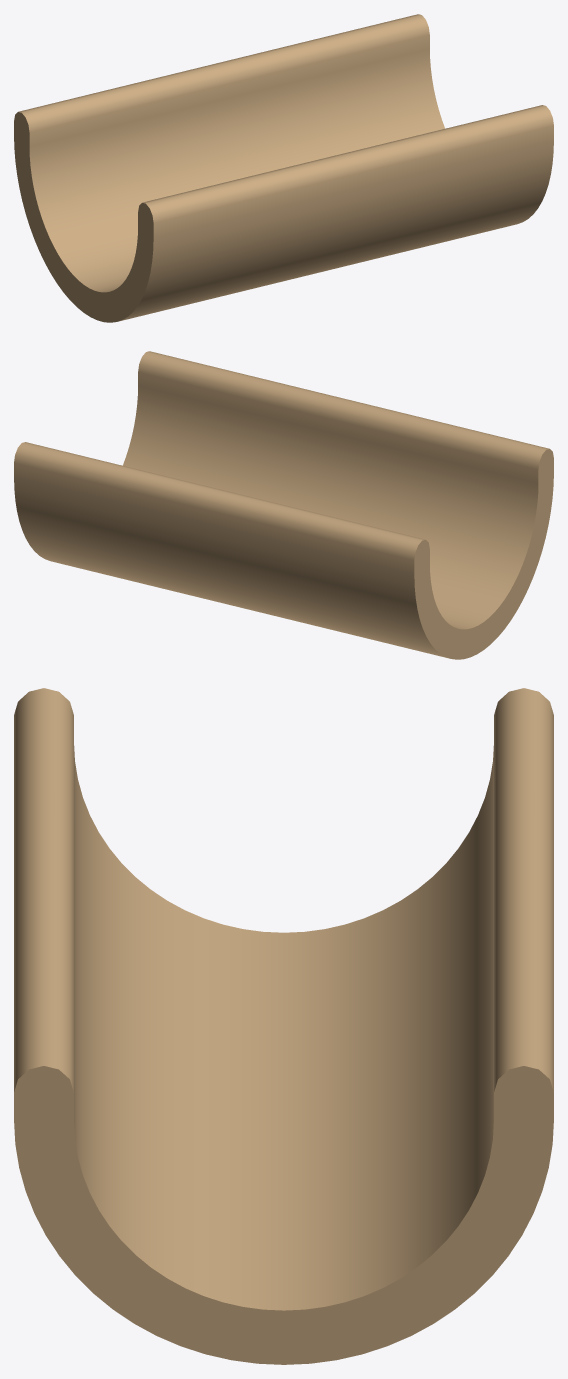
The model's file is rail_straight_l2.glb.
3 renders of one model, top to bottom at view 1: azimuth 30°, elevation 25°; view 2: azimuth 150°, elevation 25°; view 3: azimuth 270°, elevation 25°, orthographic. The views are drawn at different scales.
Visible parts, largest first — view 1: rail_straight_l2_lod0; view 2: rail_straight_l2_lod0; view 3: rail_straight_l2_lod0.
Part boxes in pixels (<box>): rail_straight_l2_lod0: <box>14,14,553,322</box>; rail_straight_l2_lod0: <box>14,351,553,659</box>; rail_straight_l2_lod0: <box>14,688,553,1364</box>.
Size of what is drawn, in the model's own units: 0.0596 by 0.022 by 0.036.
